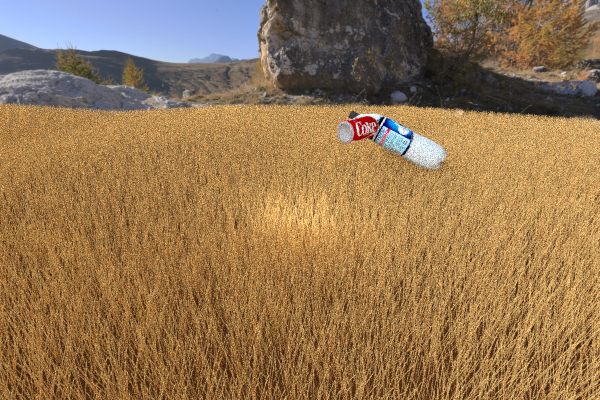bottle: (347, 109, 445, 169)
can: (0, 118, 47, 161)
